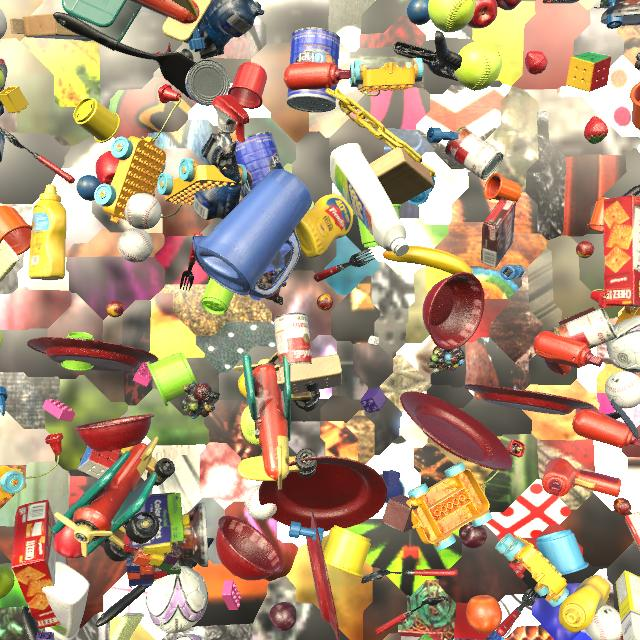ycb_002_master_chef_can: (287, 27, 340, 113), (236, 132, 284, 198)
ycb_003_cracker_box: (11, 500, 68, 629), (603, 195, 640, 307)
ycb_004_sugar_box: (616, 570, 640, 640)
ycb_005_tomato_soup_can: (445, 126, 503, 180), (554, 308, 617, 349), (274, 313, 312, 368)
ycb_006_mustard_bottle: (295, 194, 354, 258), (28, 185, 67, 280), (559, 574, 611, 633)
ycb_007_tuna_fish_can: (185, 60, 230, 106)
ycb_008_pudding_box: (481, 198, 516, 268)
ycb_009_gelatin_box: (625, 512, 640, 550)
ycb_011_banana: (383, 246, 473, 279)
ycb_012_strawberry: (584, 116, 608, 144), (525, 51, 548, 75), (418, 633, 438, 640)
ycb_013_apple: (54, 518, 90, 558), (467, 0, 498, 28), (95, 151, 120, 185), (496, 0, 522, 11)
ycb_014_lemon: (238, 373, 247, 398)
ycb_016_pear: (0, 564, 15, 599)
ycb_017_orange: (466, 595, 502, 634)
ycb_018_plum: (269, 602, 297, 631), (459, 522, 487, 549)
